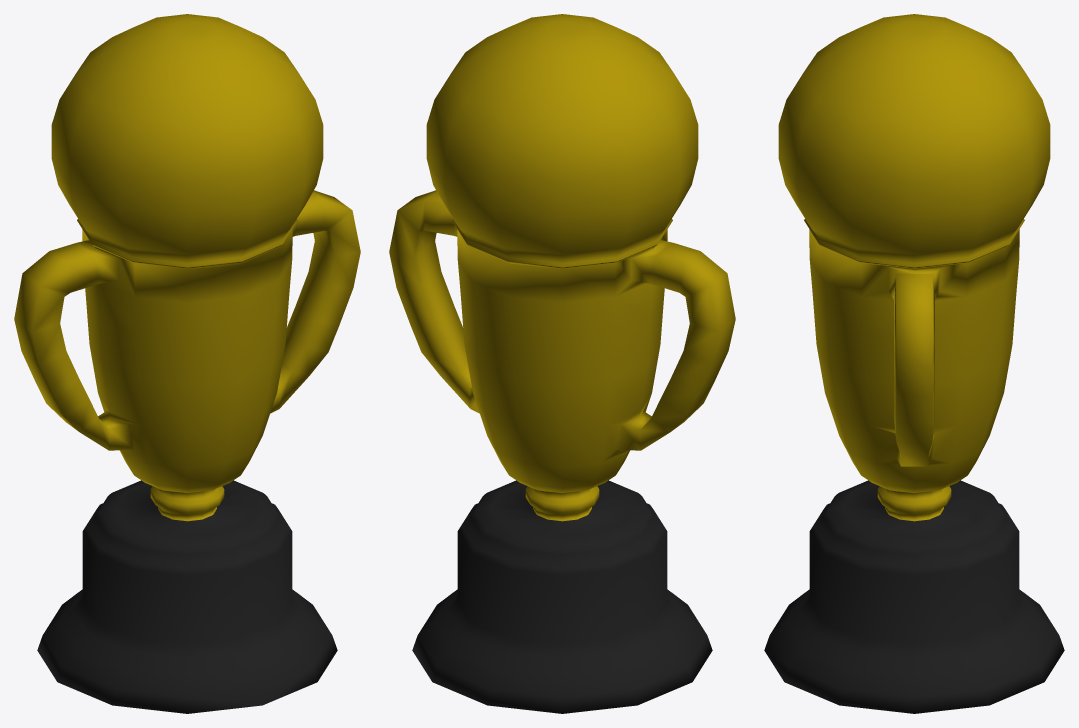
File: copa.glb
3 views of the same model, side by side, from view 1: azimuth 30°, elevation 25°; view 2: azimuth 150°, elevation 25°; view 3: azimuth 270°, elevation 25° (orthographic).
Visible parts, largest first — view 1: throphy_lp; view 2: throphy_lp; view 3: throphy_lp.
Boxes of the visible parts, left/top/right/bottom form: throphy_lp: left=14, top=14, right=360, bottom=713; throphy_lp: left=389, top=14, right=735, bottom=713; throphy_lp: left=764, top=14, right=1064, bottom=713.
Bounding box in the file's own units: 1.72 × 3.11 × 1.36.
